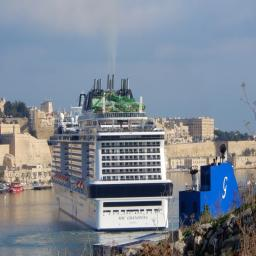cruises: (48, 72, 173, 233)
